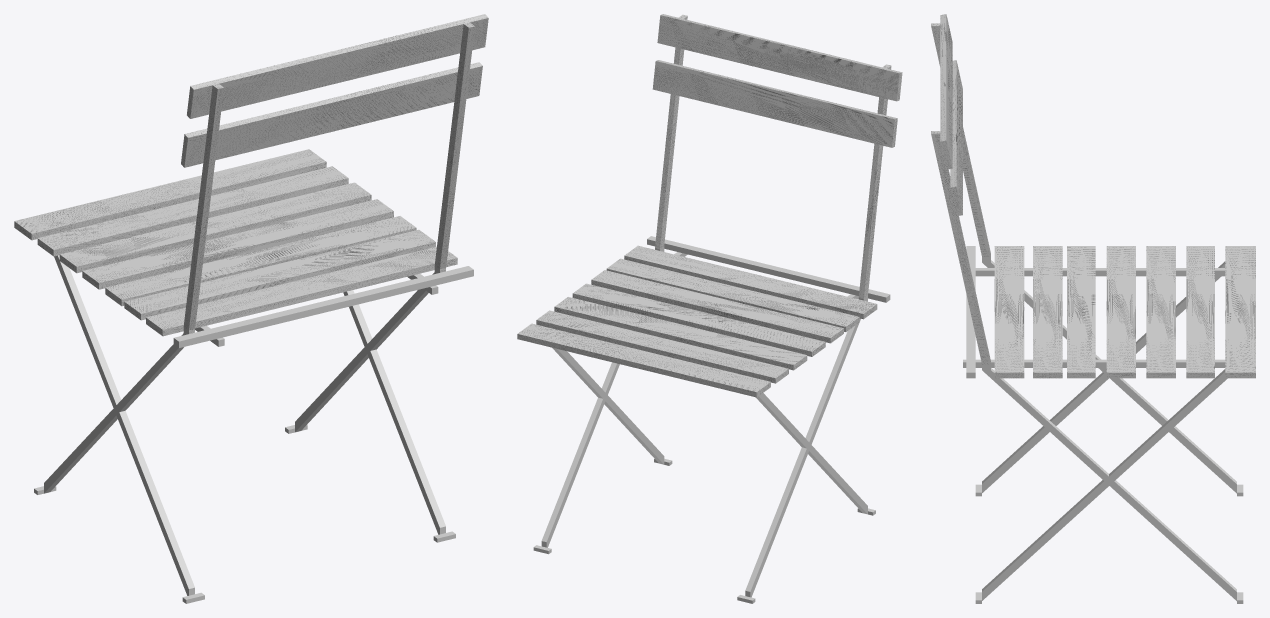
3 views of the same model, side by side, from view 1: azimuth 30°, elevation 25°; view 2: azimuth 150°, elevation 25°; view 3: azimuth 270°, elevation 25° (orthographic). The views are drawn at different scales.
Parts seen in each view (by area): view 1: mesh1_mesh1-geometry; view 2: mesh1_mesh1-geometry; view 3: mesh1_mesh1-geometry.
Boxes of the visible parts, x1=… form: mesh1_mesh1-geometry: x1=14, y1=14, x2=488, y2=603; mesh1_mesh1-geometry: x1=517, y1=14, x2=902, y2=603; mesh1_mesh1-geometry: x1=931, y1=14, x2=1255, y2=603.
Size of the model in its own units: 0.4401 by 0.7604 by 0.4776.
